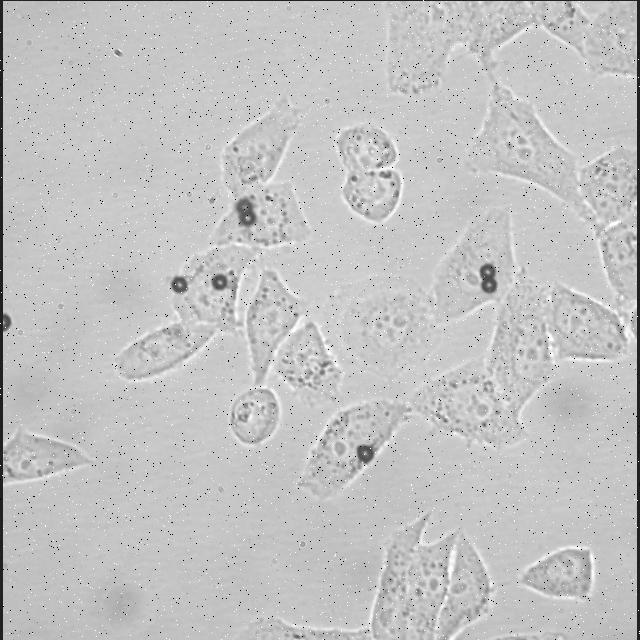microbeads: (228, 193, 258, 217), (472, 262, 500, 282), (354, 443, 378, 462), (210, 269, 230, 291), (239, 208, 261, 228), (169, 275, 191, 291), (482, 278, 501, 294), (3, 312, 13, 330)
